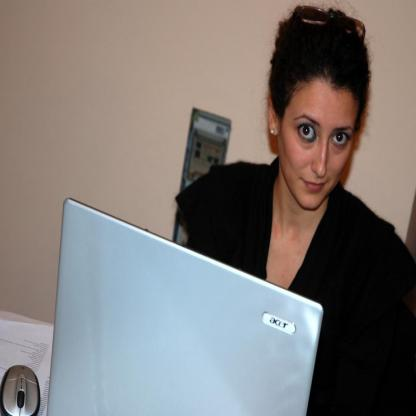board: (47, 196, 323, 416)
